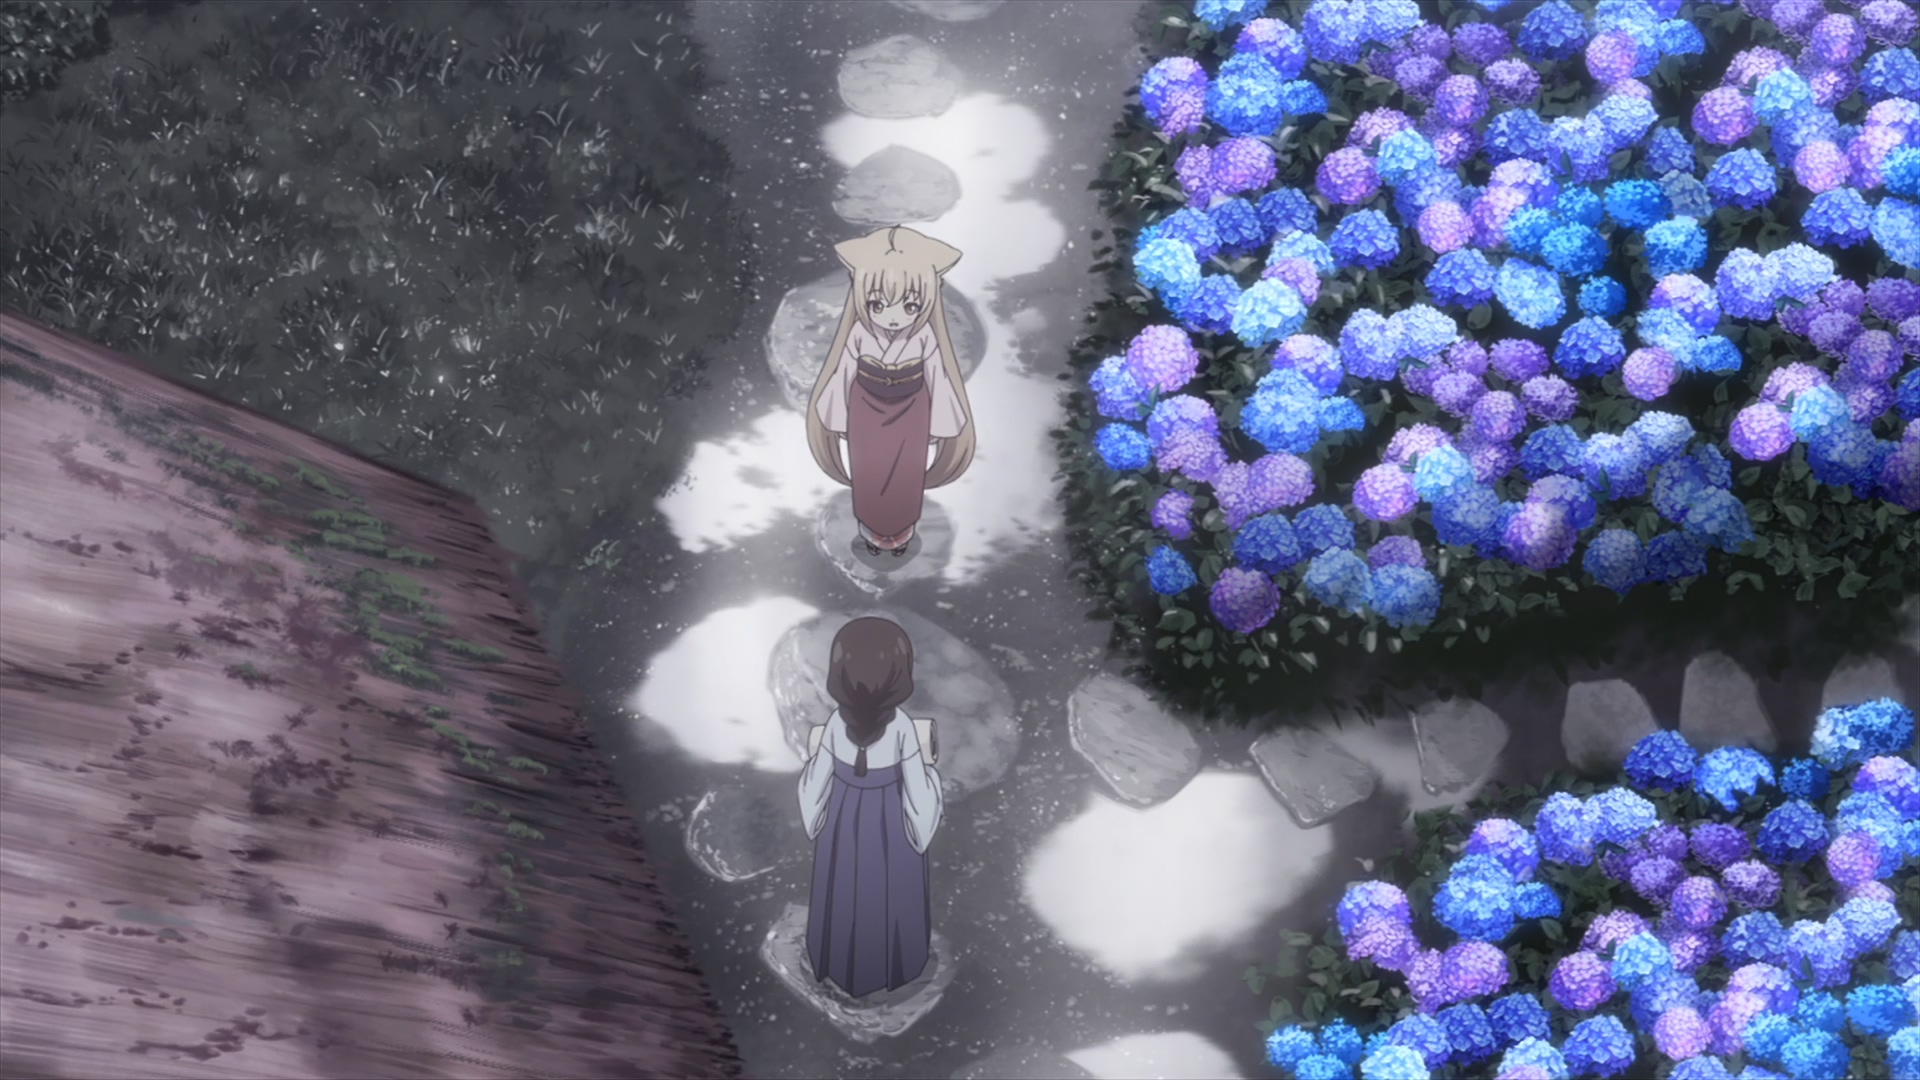其他: (796, 616, 944, 1000)
柚: (806, 223, 977, 560)
